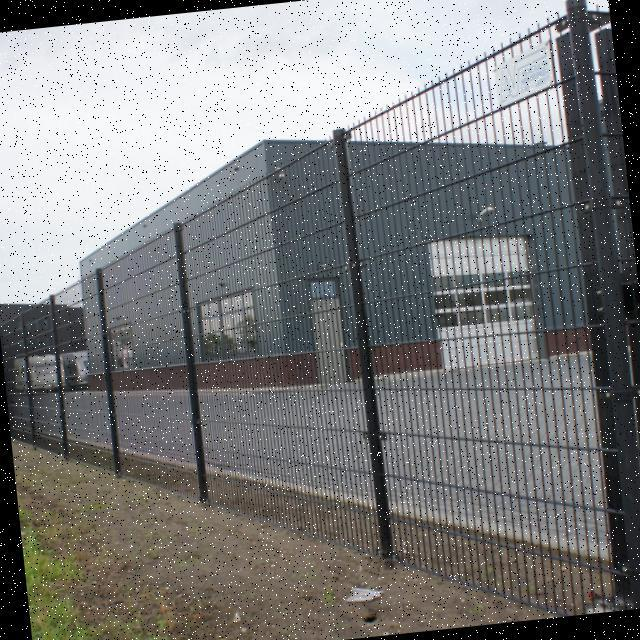fence line: (233, 109, 622, 639), (0, 259, 327, 562)
